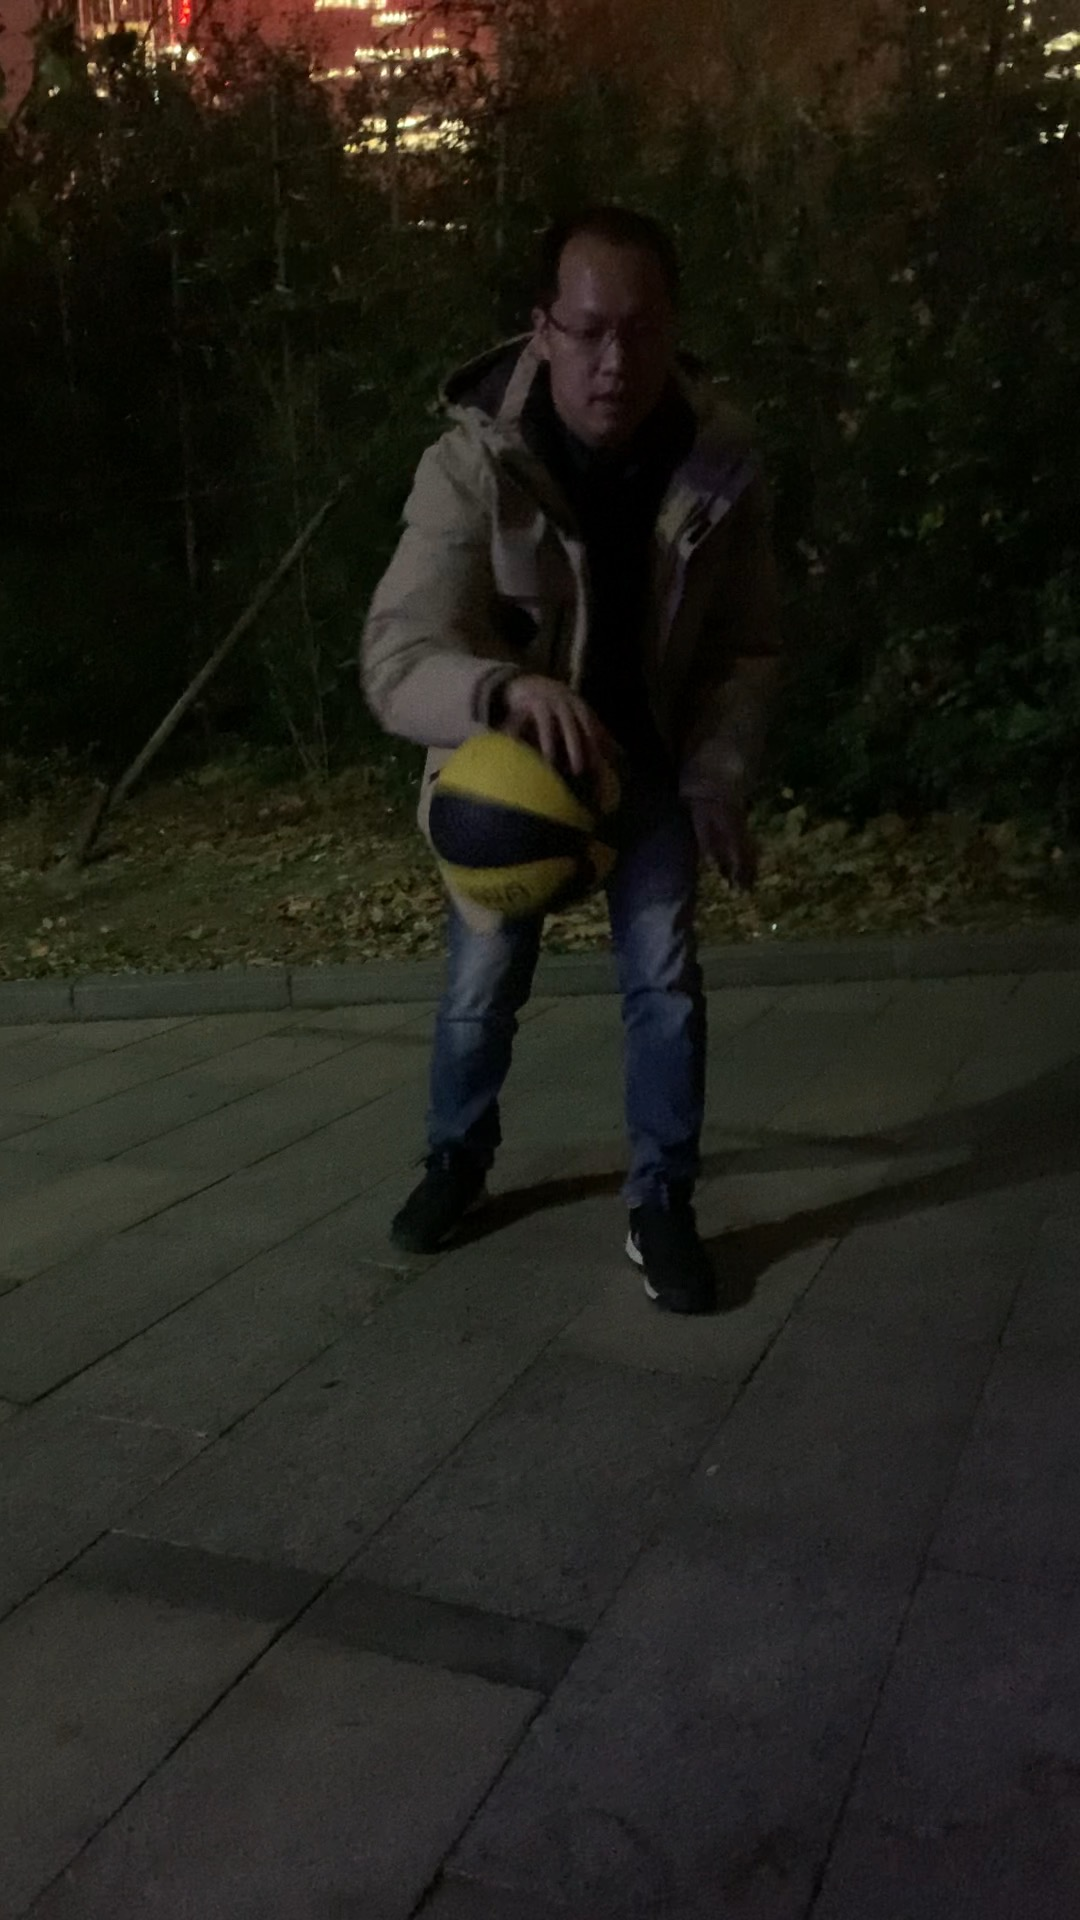ball: (426, 719, 638, 924)
